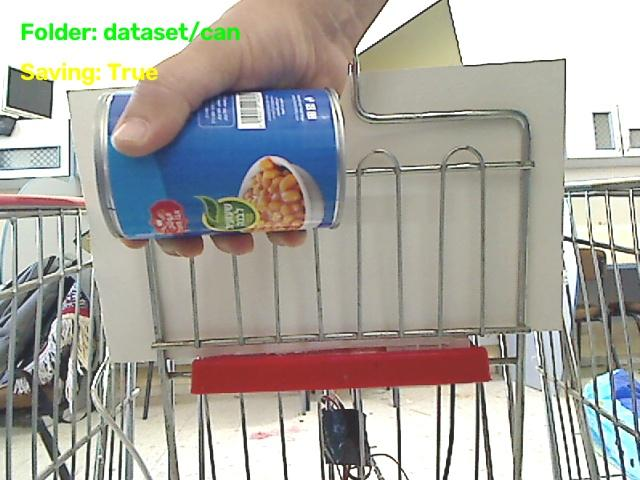can: (95, 90, 344, 238)
